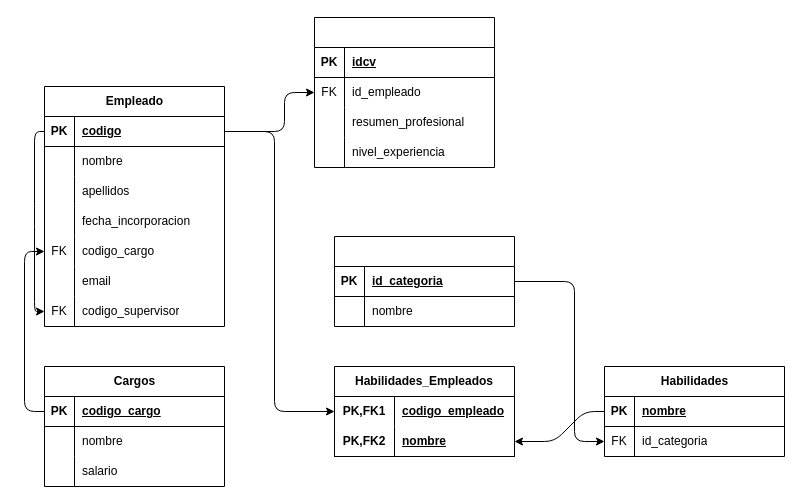
Some shapes in this 802 by 504 pixel diagram are drawn without their labels. The shapes that lost their labels are listed below. From the top down, each one's box as (x1, y1, x2, y2) in pixels, then its label:
(314, 16, 494, 168): CV
(334, 236, 514, 326): Categorías
